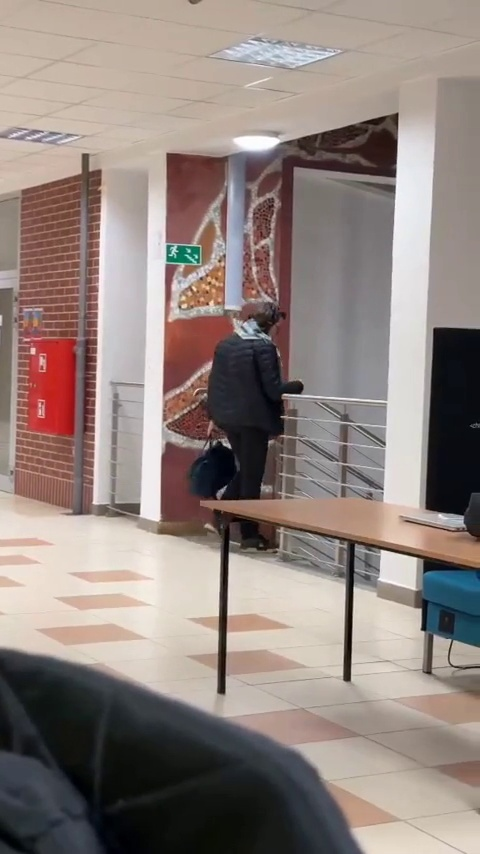no vest: (204, 299, 294, 558)
